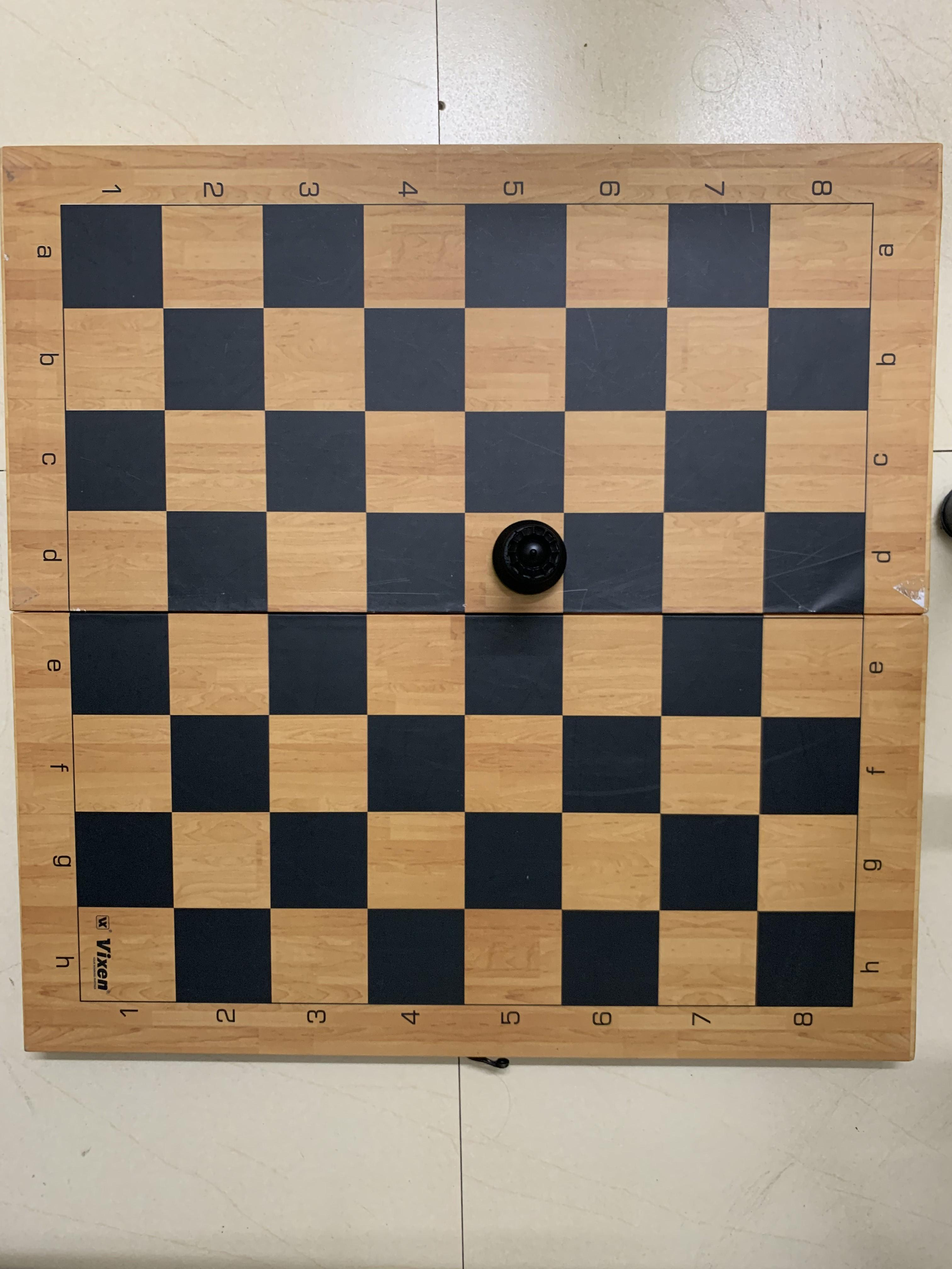black_rook: (478, 507, 564, 612)
